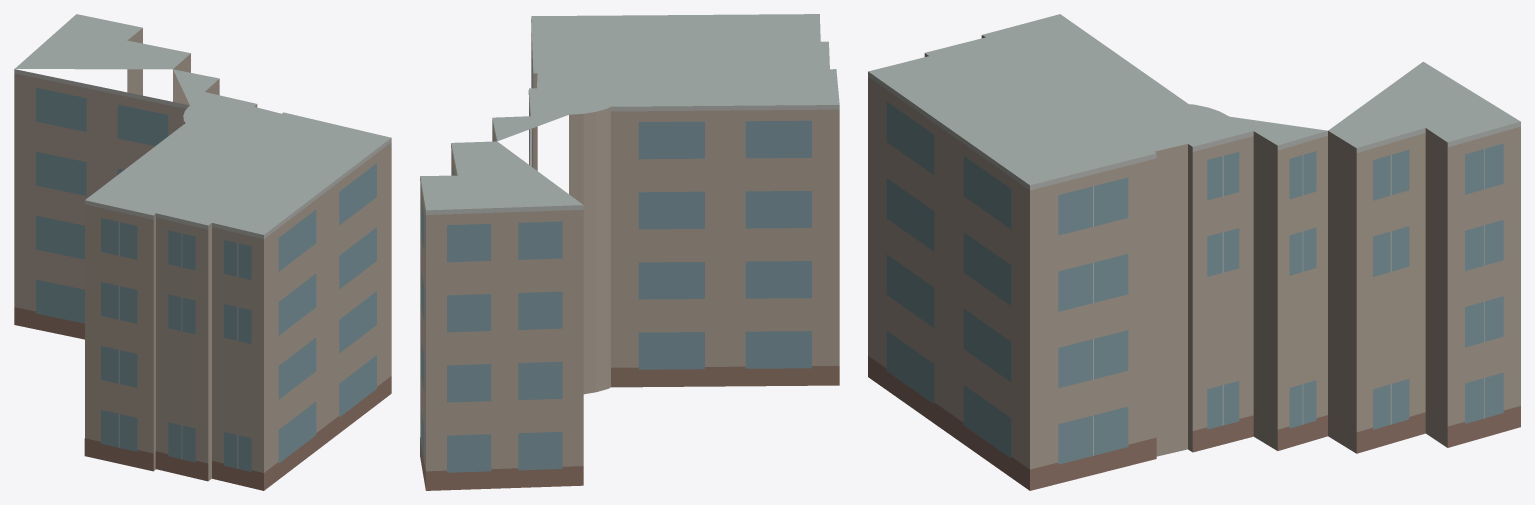
File: survey-upis-32581291.glb
3 views of the same model, side by side, from view 1: azimuth 30°, elevation 25°; view 2: azimuth 150°, elevation 25°; view 3: azimuth 270°, elevation 25° (orthographic). The views are drawn at different scales.
Parts seen in each view (by area): view 1: survey-upis-32581291.tmp; view 2: survey-upis-32581291.tmp; view 3: survey-upis-32581291.tmp.
Boxes of the visible parts, x1,y1,x2,y2 form: survey-upis-32581291.tmp: [14, 14, 391, 490]; survey-upis-32581291.tmp: [420, 14, 839, 490]; survey-upis-32581291.tmp: [868, 14, 1520, 490].
Bounding box in the file's own units: 17.69 × 14.7 × 28.47.
